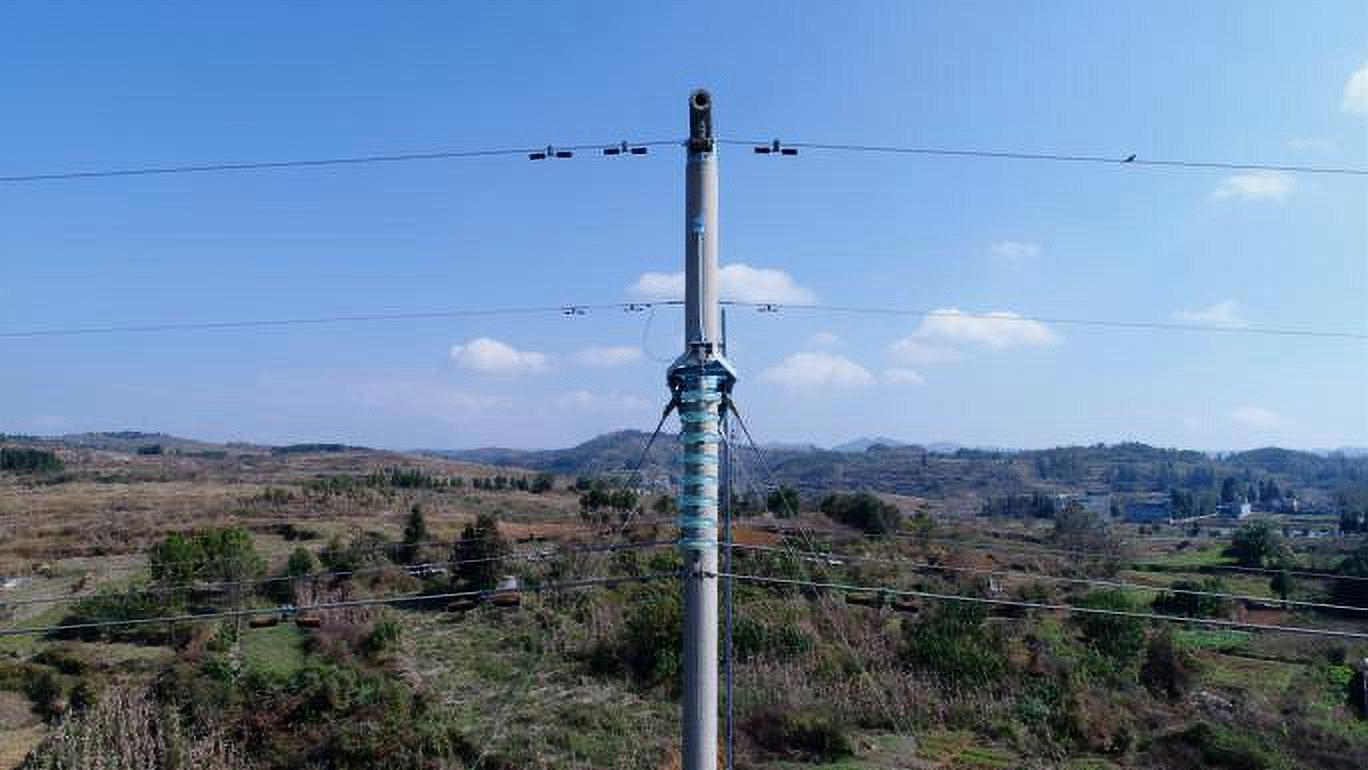insulator: (674, 384, 723, 555)
